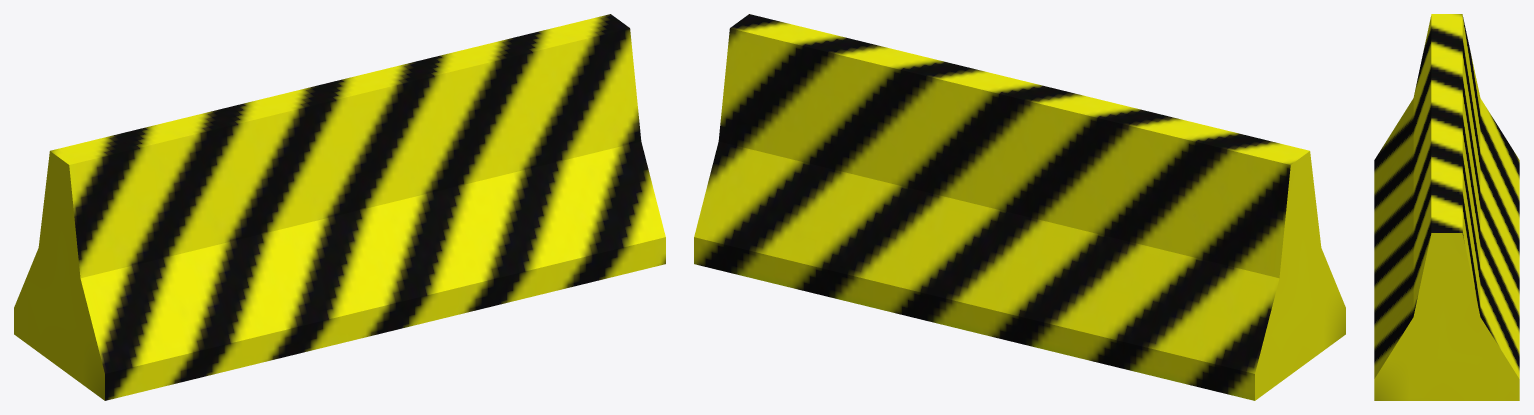
File: barier_1.fbx
3 views of the same model, side by side, from view 1: azimuth 30°, elevation 25°; view 2: azimuth 150°, elevation 25°; view 3: azimuth 270°, elevation 25° (orthographic). The views are drawn at different scales.
Visible parts, largest first — view 1: Barrier; view 2: Barrier; view 3: Barrier.
Boxes of the visible parts, box(x1,y1,x2,y2) form: Barrier: box(14, 14, 665, 400); Barrier: box(694, 14, 1345, 400); Barrier: box(1374, 14, 1519, 400).
Bounding box in the file's own units: 122 × 43.67 × 34.27.
